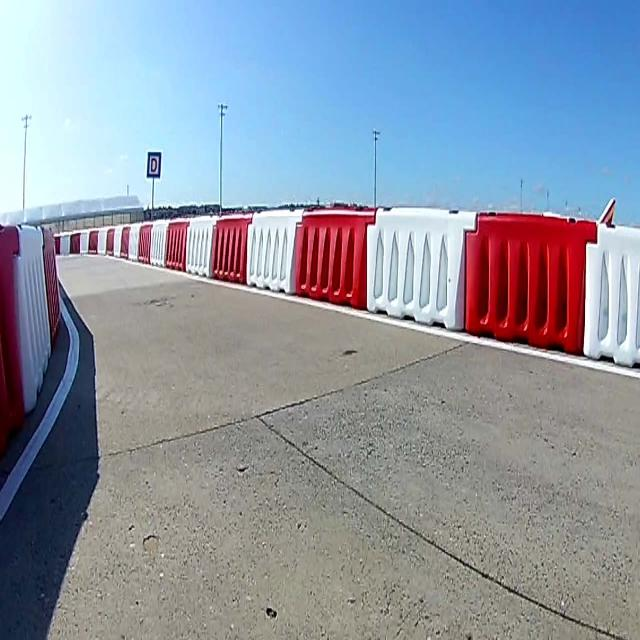durak: (147, 152, 160, 178)
